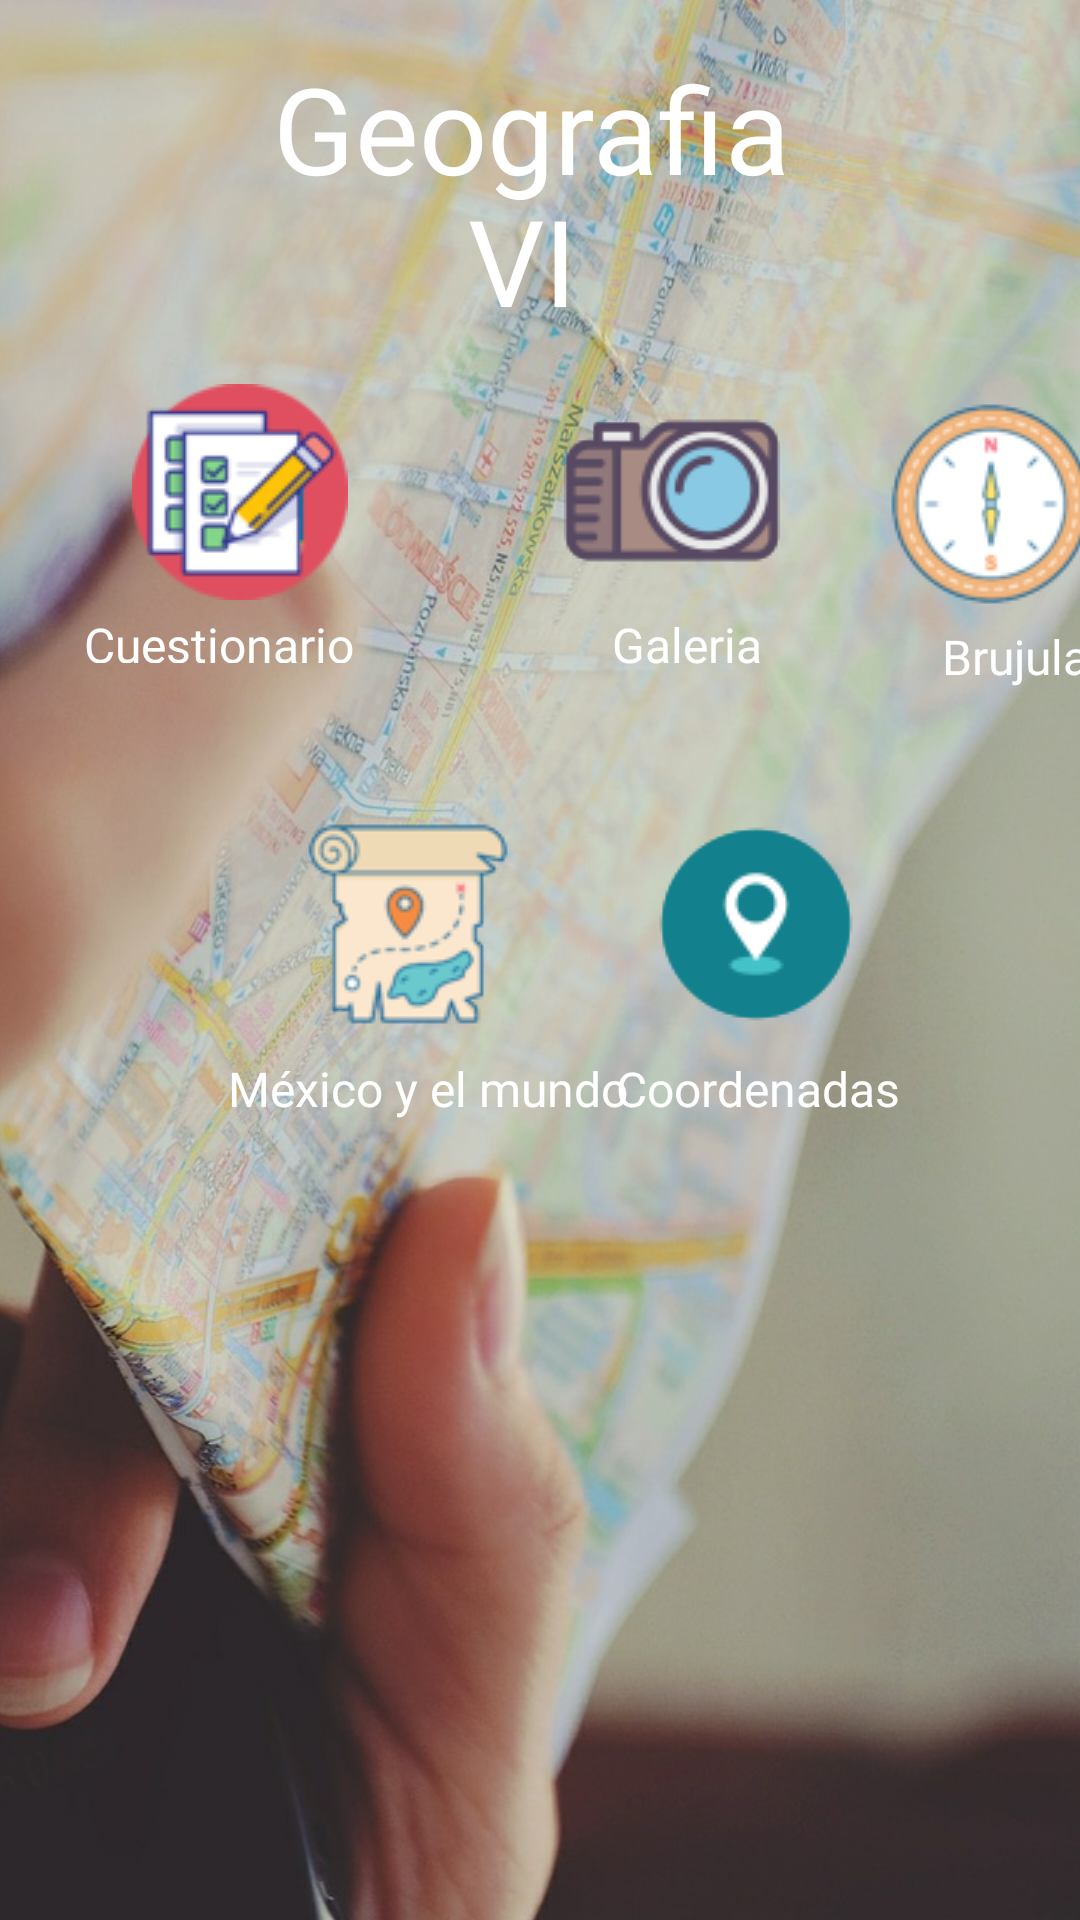

Locate icon controls on the screen. Image size 1080*1920, boxes as bbox(x1, y1, x2, y2).
Ubicacion: bbox(655, 828, 853, 1032)
